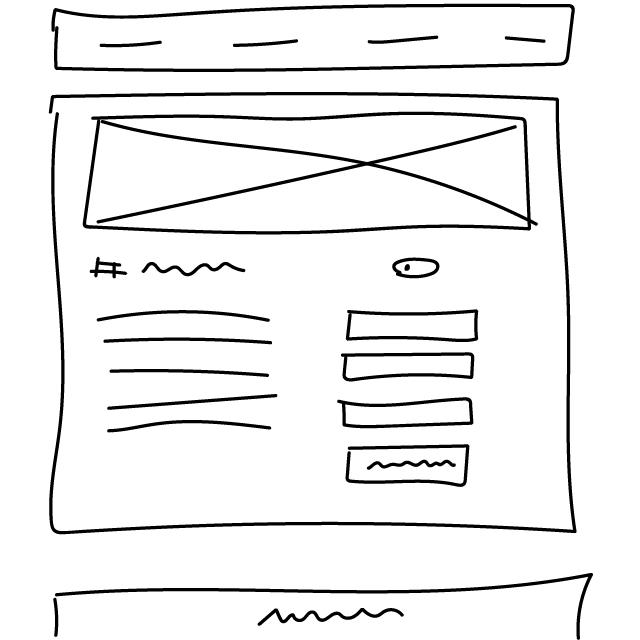buttonrotation: (342, 440, 478, 490)
checkboxrotation: (389, 253, 444, 281)
containerrotation: (42, 91, 581, 540)
footerrotation: (46, 571, 598, 640)
framerotation: (80, 109, 544, 242)
headingrotation: (90, 252, 252, 285)
inputrotation: (344, 307, 482, 347), (336, 397, 479, 432), (338, 351, 480, 385)
navrotation: (46, 1, 582, 74)
textrotation: (95, 304, 285, 439)
